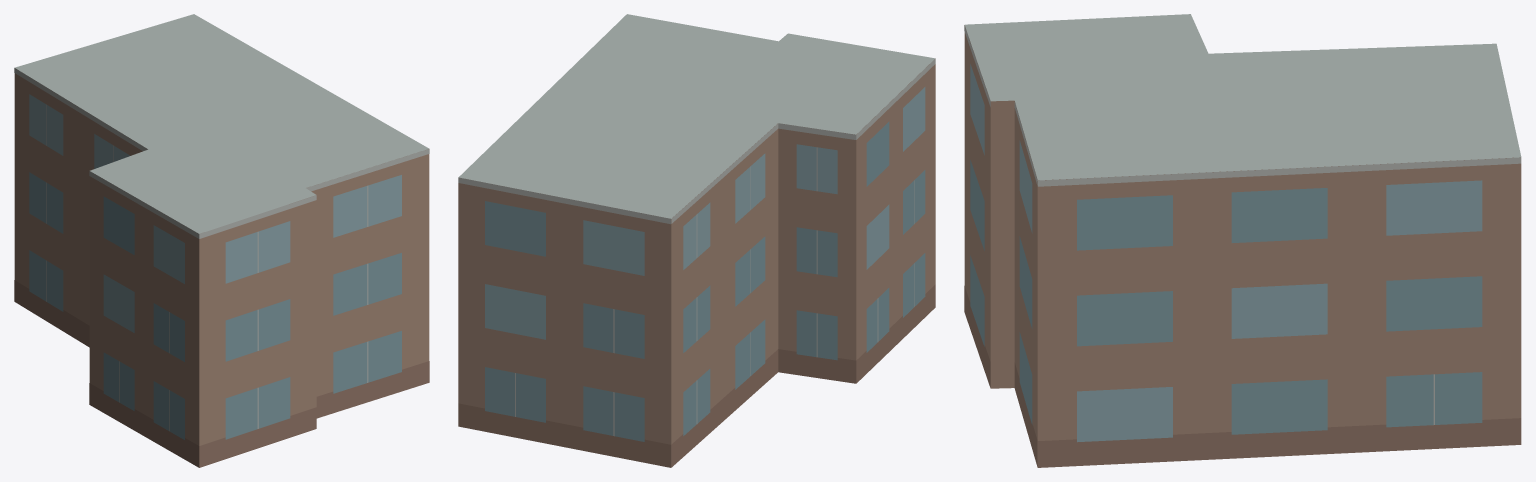
The model's file is survey-upis-32719485.glb.
3 views of the same model, side by side, from view 1: azimuth 30°, elevation 25°; view 2: azimuth 150°, elevation 25°; view 3: azimuth 270°, elevation 25° (orthographic). The views are drawn at different scales.
Visible parts, largest first — view 1: survey-upis-32719485.tmp; view 2: survey-upis-32719485.tmp; view 3: survey-upis-32719485.tmp.
Part boxes in pixels (x1,y1,x2,y2): survey-upis-32719485.tmp: [14, 14, 429, 467]; survey-upis-32719485.tmp: [458, 14, 935, 467]; survey-upis-32719485.tmp: [964, 14, 1521, 467].
Bounding box in the file's own units: 13.8 × 11.1 × 19.5.
